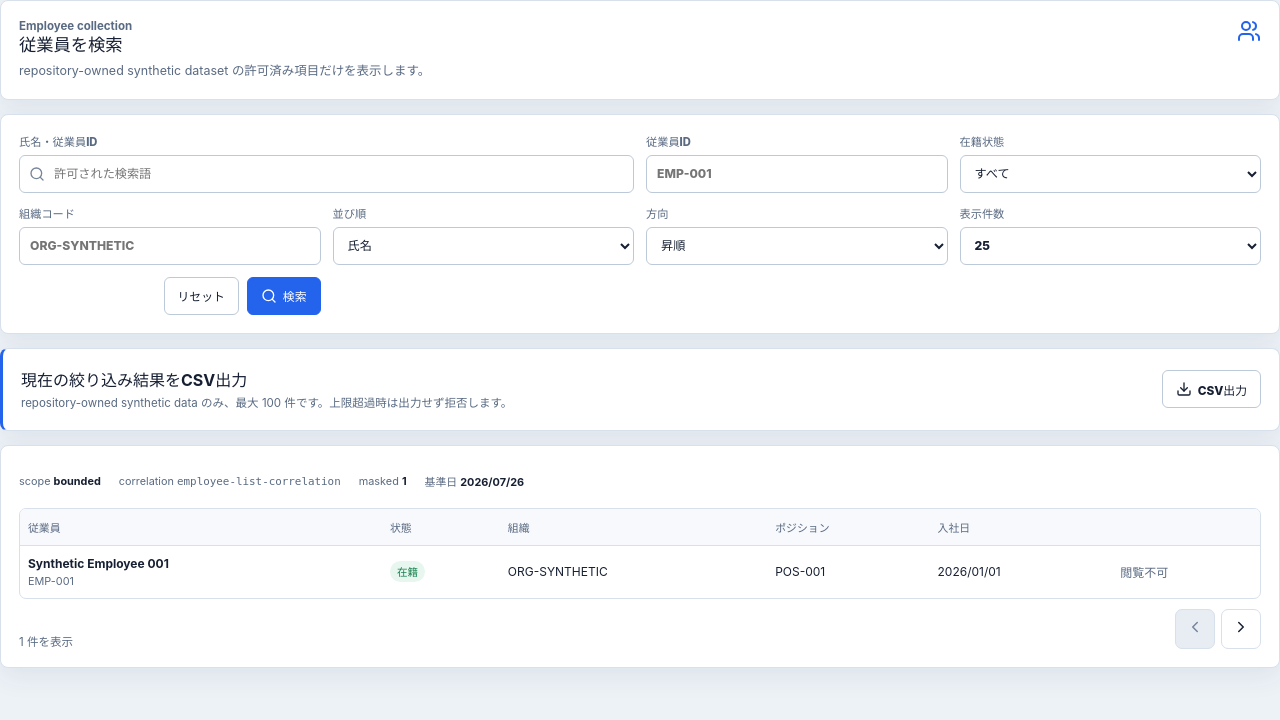
Test: employee list screen › rejects boundary whitespace without rewriting the search
The width and height of the screenshot is (1280, 720).
Expected: the text "Synthetic Employee 001" is shown, [28,556,169,571]
Type " Synthetic" into the field labelled "氏名・従業員ID" at (326, 174), box [19,155,634,193]
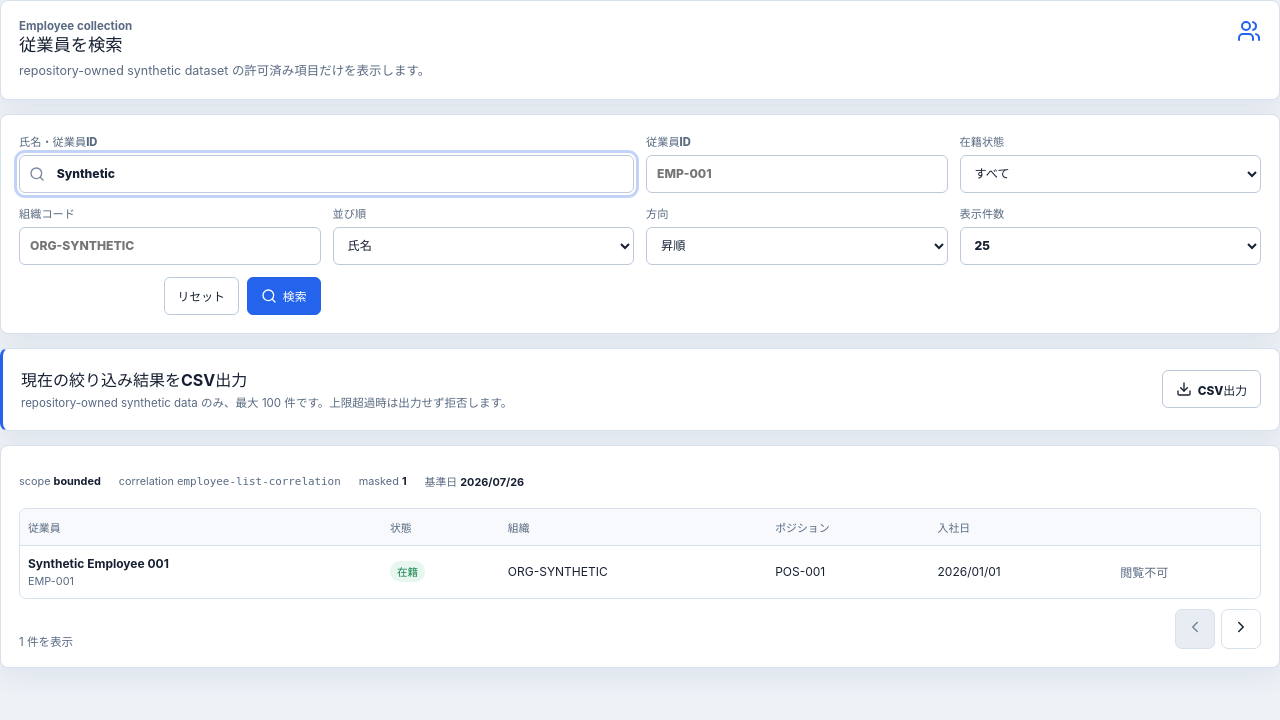
Click the button "検索" at (284, 296), box [247,277,320,315]
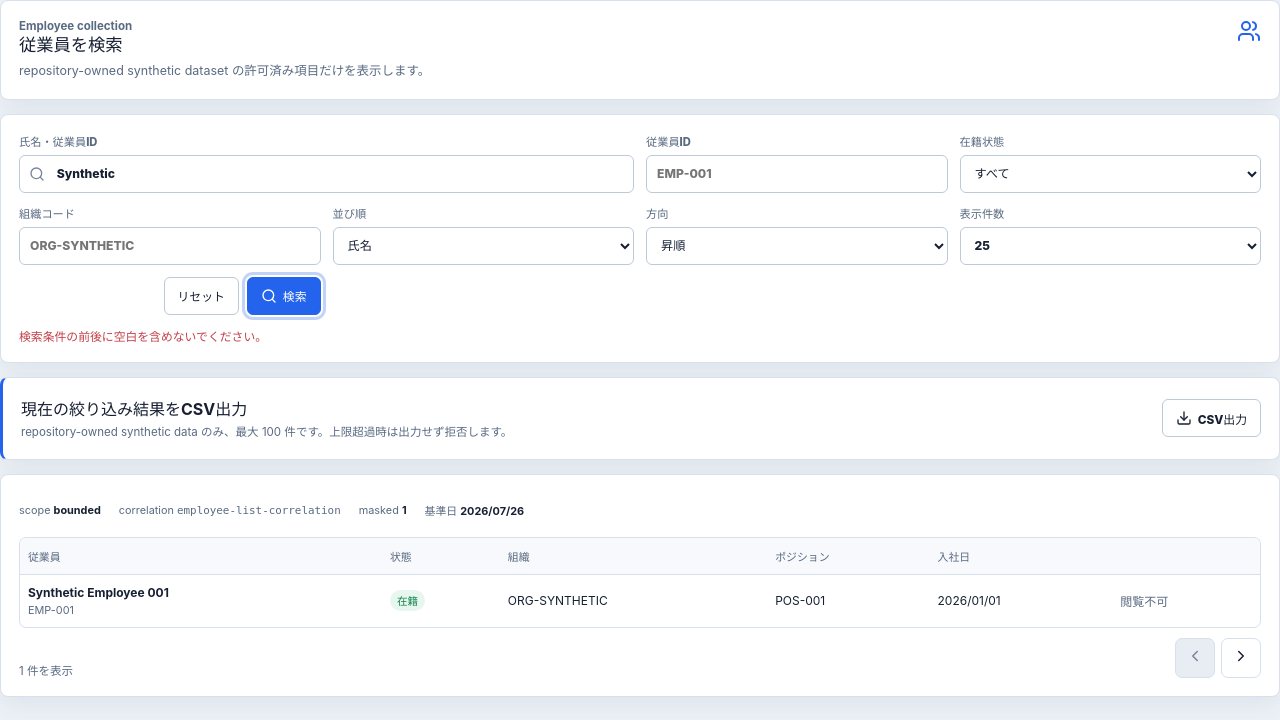
Expected: the text "検索条件の前後に空白を含めないでください。" is shown, [19,330,267,344]
